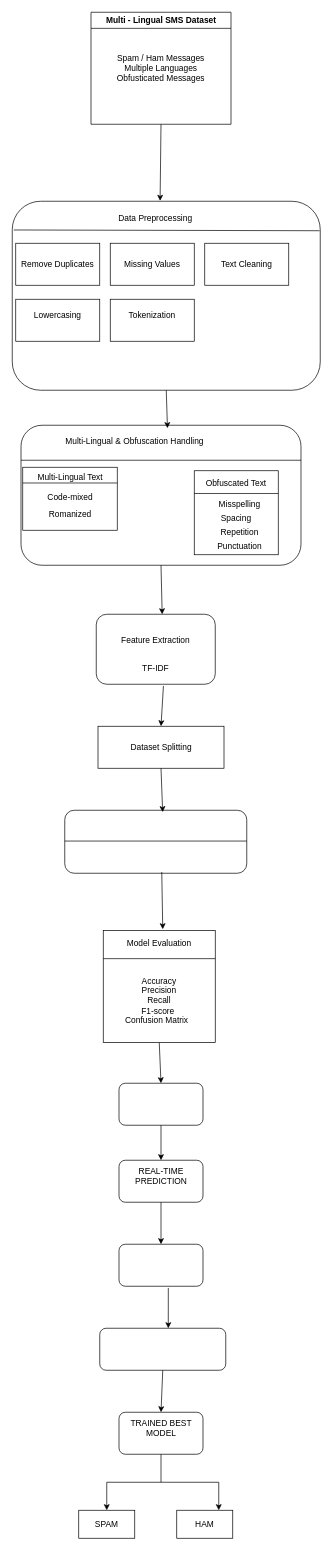
The diagram is 333 pixels wide and 1551 high, and some of its shapes have lost their labels. The centre of each missing label's shape, as x and y in pixels:
"Best Model Selection" belongs at [160,1104].
"Machine Learning Training" belongs at [155,841].
"Preprocessing + TF-IDF" belongs at [162,1349].
"USER SMS INPUT" belongs at [160,1265].
